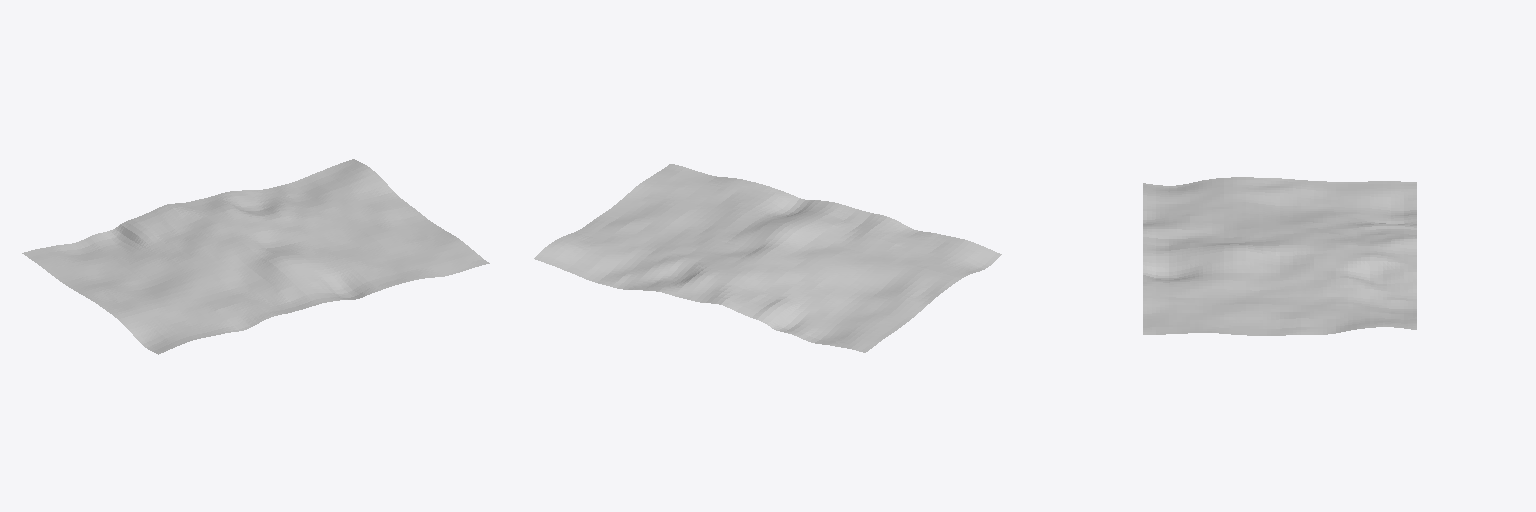
The model's file is tara-hill.obj.
3 views of the same model, side by side, from view 1: azimuth 30°, elevation 25°; view 2: azimuth 150°, elevation 25°; view 3: azimuth 270°, elevation 25° (orthographic).
Parts seen in each view (by area): view 1: EXPORT_GOOGLE_SAT_WM; view 2: EXPORT_GOOGLE_SAT_WM; view 3: EXPORT_GOOGLE_SAT_WM.
Boxes of the visible parts, x1,y1,x2,y2 form: EXPORT_GOOGLE_SAT_WM: [22, 159, 489, 354]; EXPORT_GOOGLE_SAT_WM: [534, 164, 1001, 352]; EXPORT_GOOGLE_SAT_WM: [1143, 177, 1416, 335].
Size of the model in its own units: 2140 by 133 by 1529.